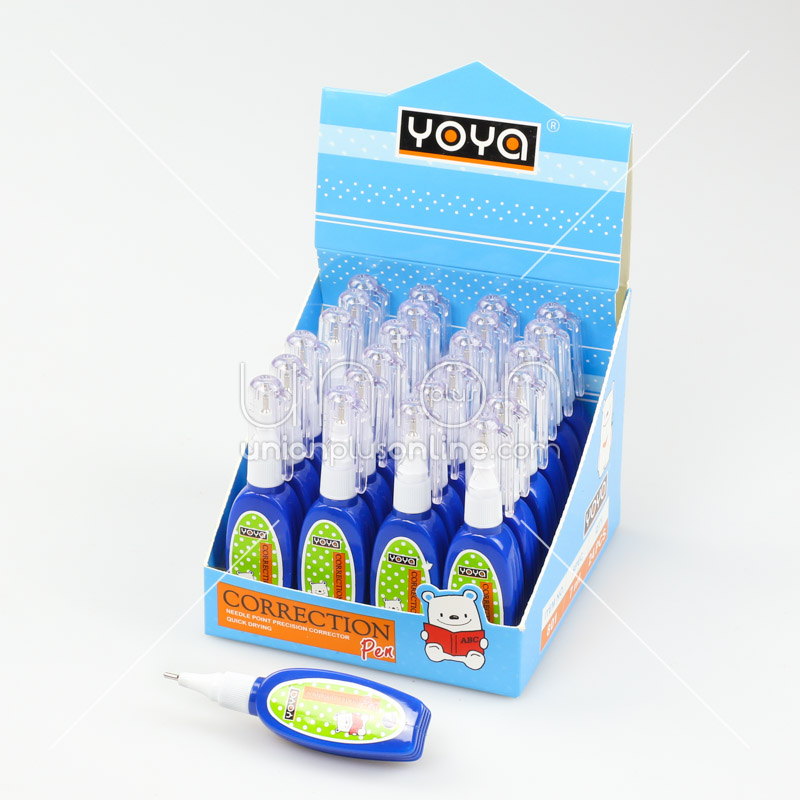Correction_fluid: (157, 662, 447, 775), (438, 407, 529, 632), (364, 397, 452, 624), (295, 379, 379, 615), (223, 367, 306, 593)
